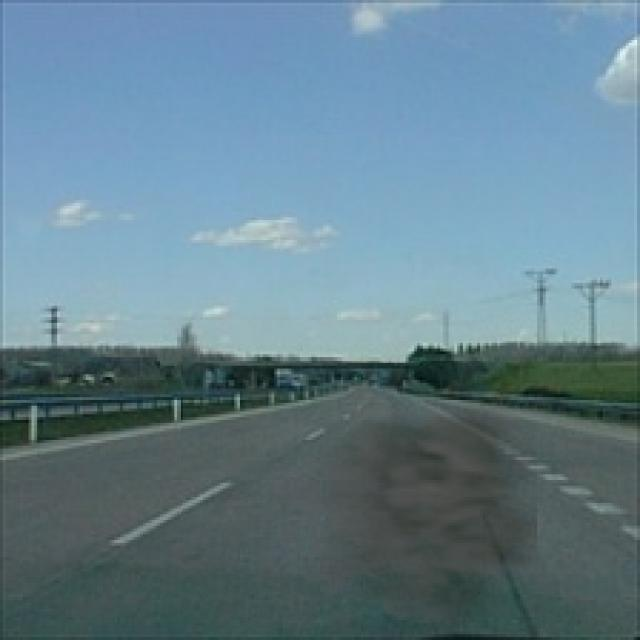Smoke: (280, 403, 537, 623)
